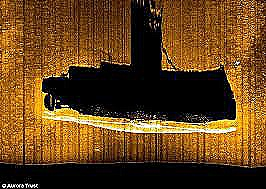ship: (41, 102, 237, 136)
